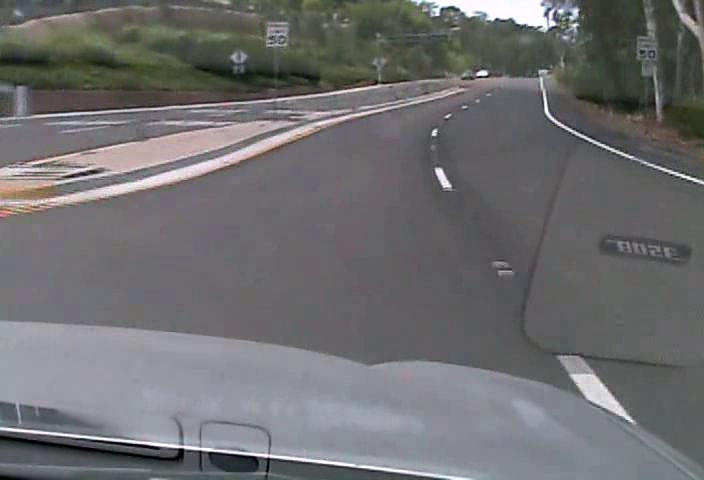speedLimitUrdbl: (264, 19, 288, 48)
